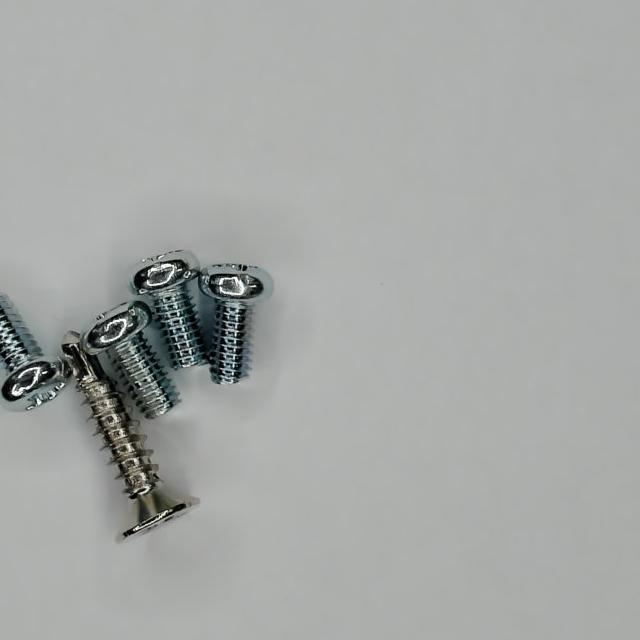Screw: (61, 332, 193, 540), (83, 301, 178, 418), (130, 251, 208, 370), (199, 264, 273, 384), (0, 293, 69, 412)
